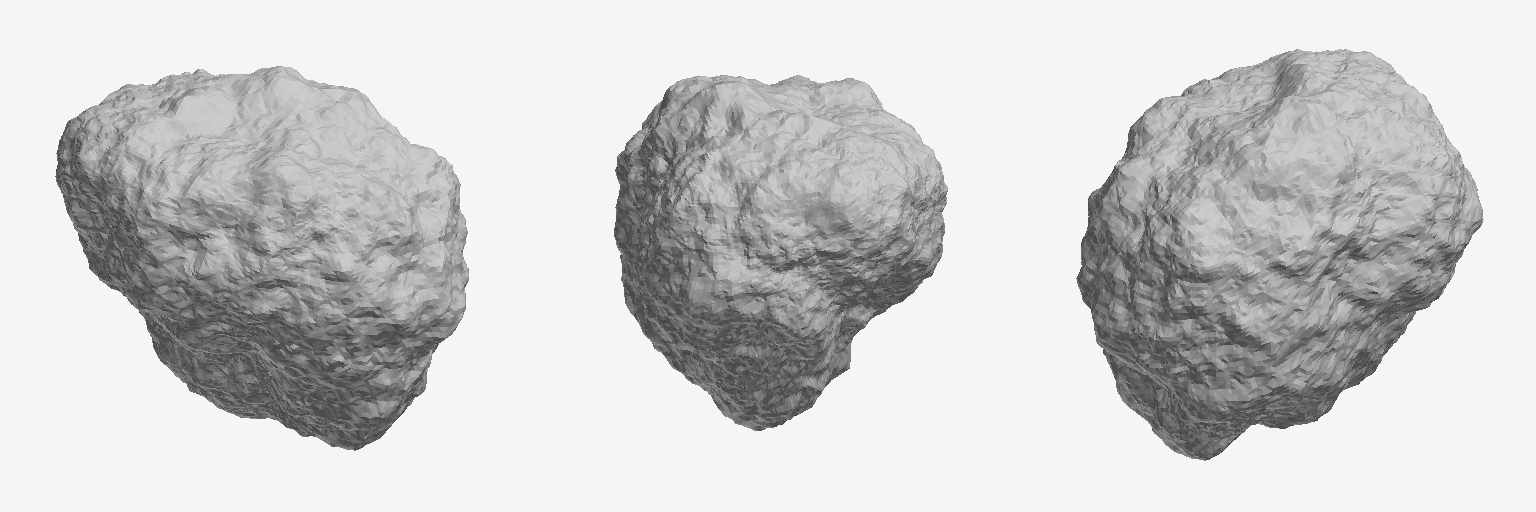
Rendered from rock_3.obj.
3 renders of one model, left to right at view 1: azimuth 30°, elevation 25°; view 2: azimuth 150°, elevation 25°; view 3: azimuth 270°, elevation 25°, orthographic.
Parts seen in each view (by area): view 1: Cube.006_Cube.007; view 2: Cube.006_Cube.007; view 3: Cube.006_Cube.007.
Part boxes in pixels (left/top/right/bottom): Cube.006_Cube.007: left=55, top=66, right=468, bottom=450; Cube.006_Cube.007: left=614, top=75, right=947, bottom=430; Cube.006_Cube.007: left=1076, top=49, right=1483, bottom=460.
Bounding box in the file's own units: 3.29 × 3.28 × 3.52.